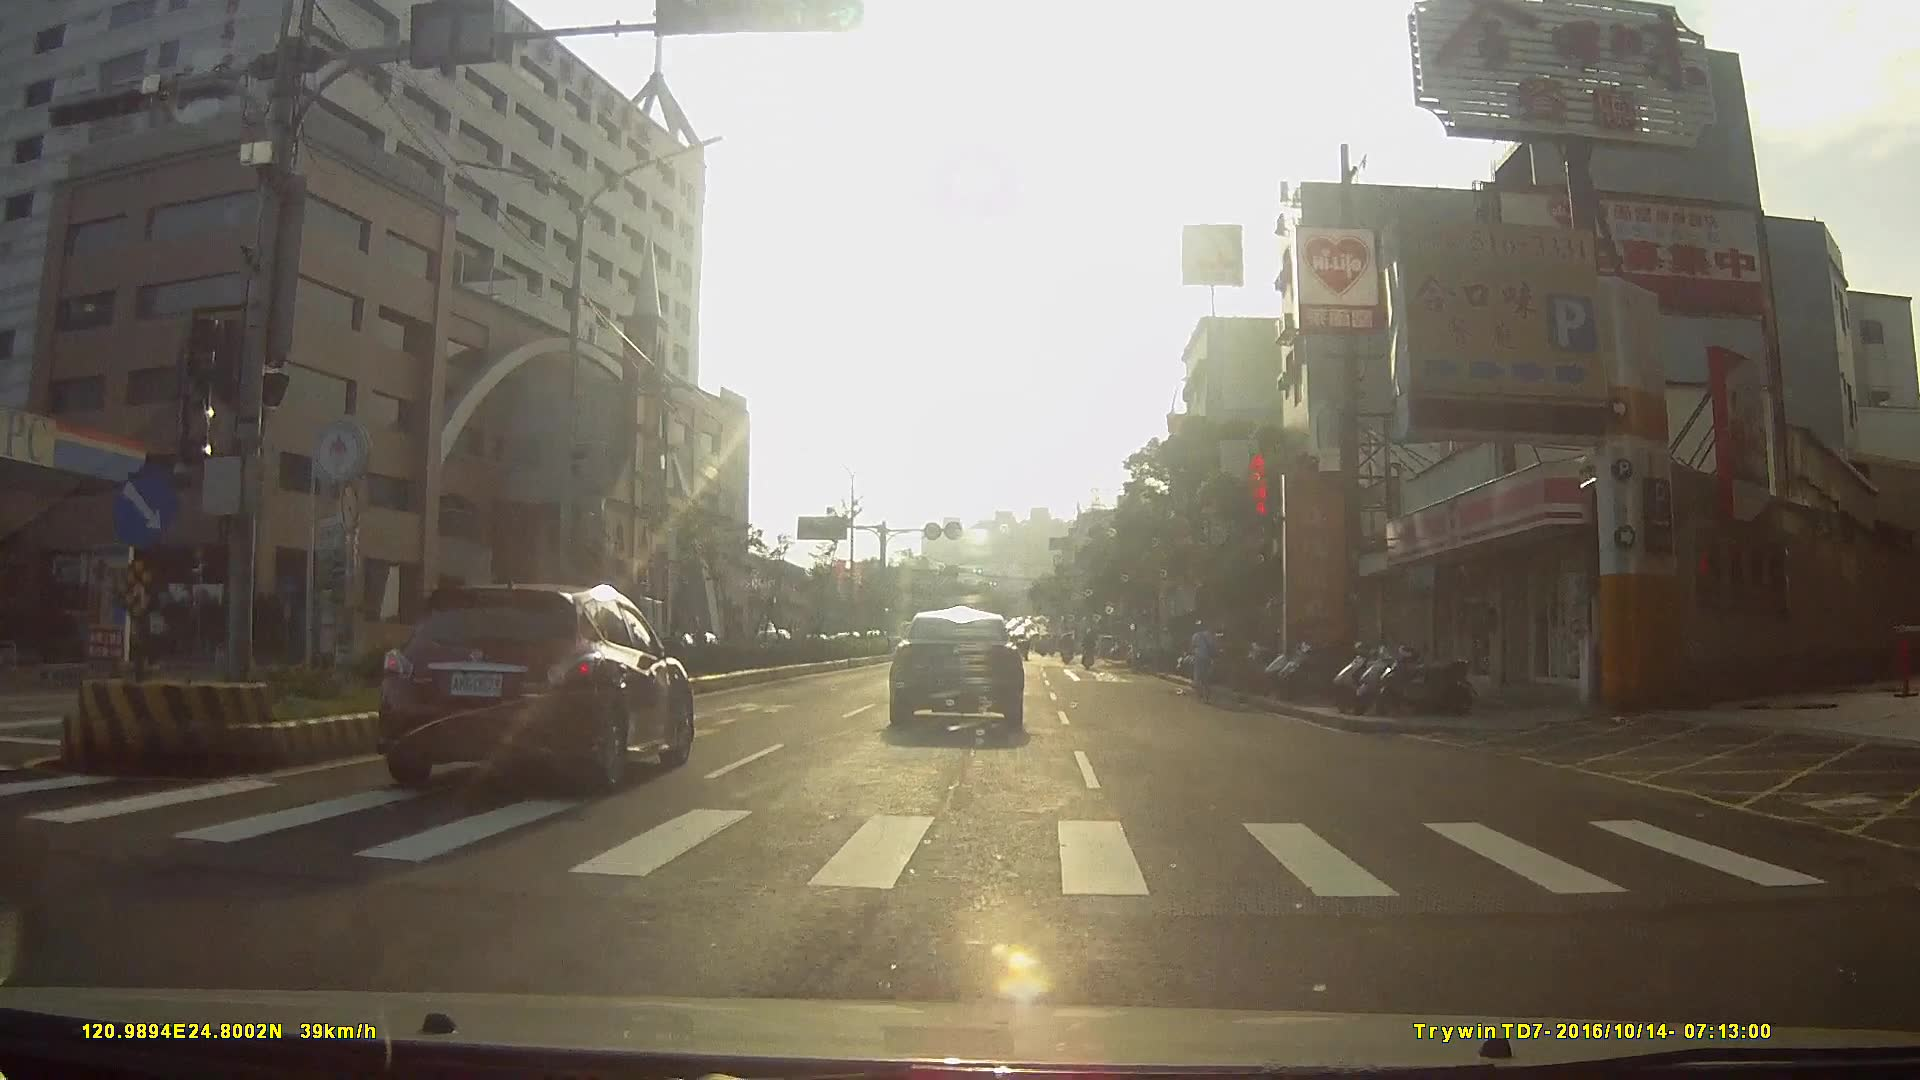rider: (1187, 618, 1221, 705)
vehicle: (367, 577, 702, 802), (886, 608, 1035, 739), (763, 607, 822, 662), (1126, 621, 1177, 674)
